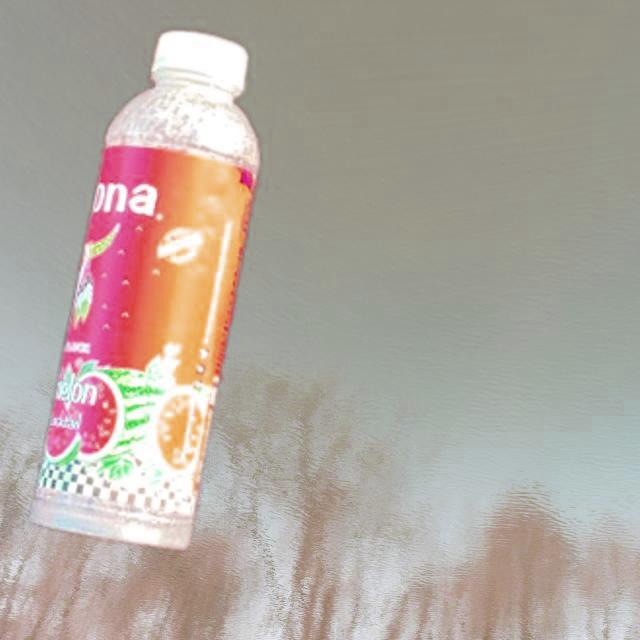Plastic: (23, 25, 269, 555)
